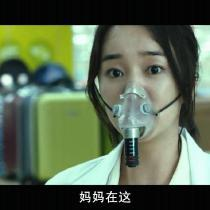face_mask: (99, 23, 180, 139)
